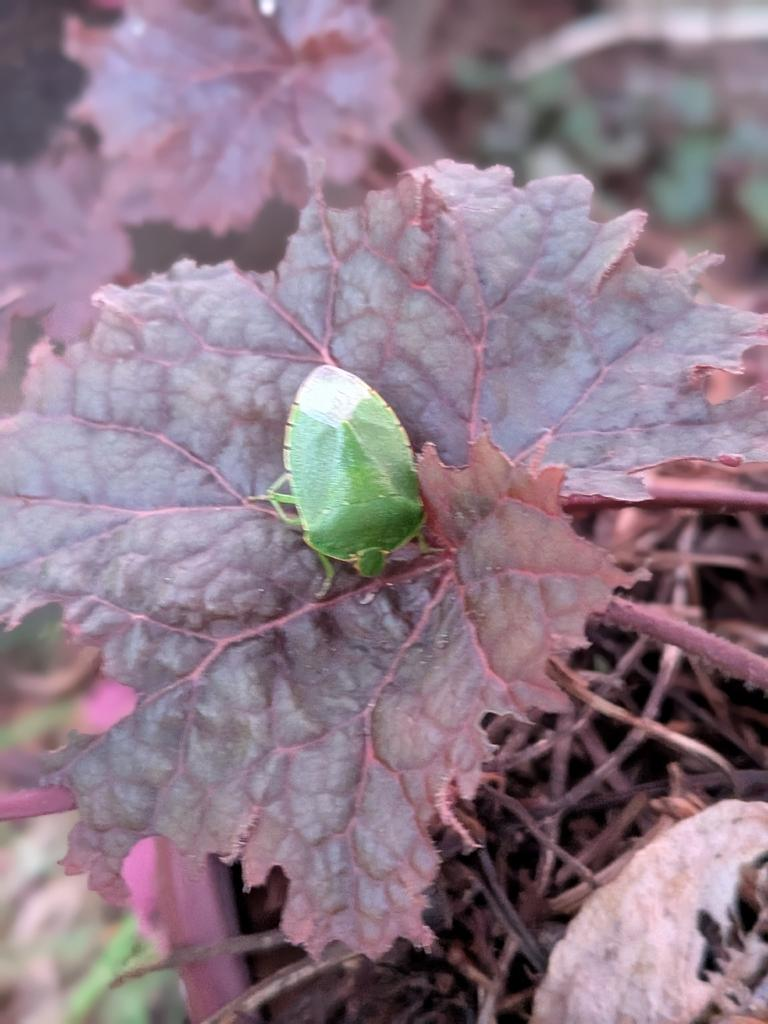stink_bugs: (211, 284, 515, 666)
